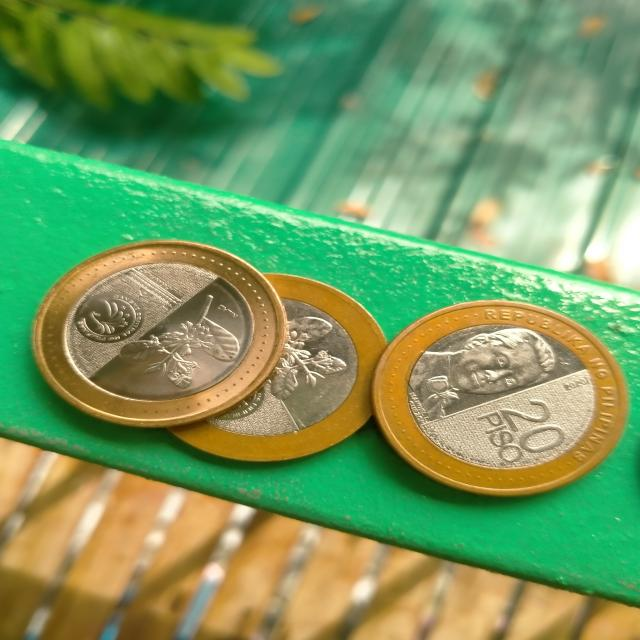20_New_Back: (118, 292, 245, 394)
20_New_Front: (449, 394, 573, 468)
